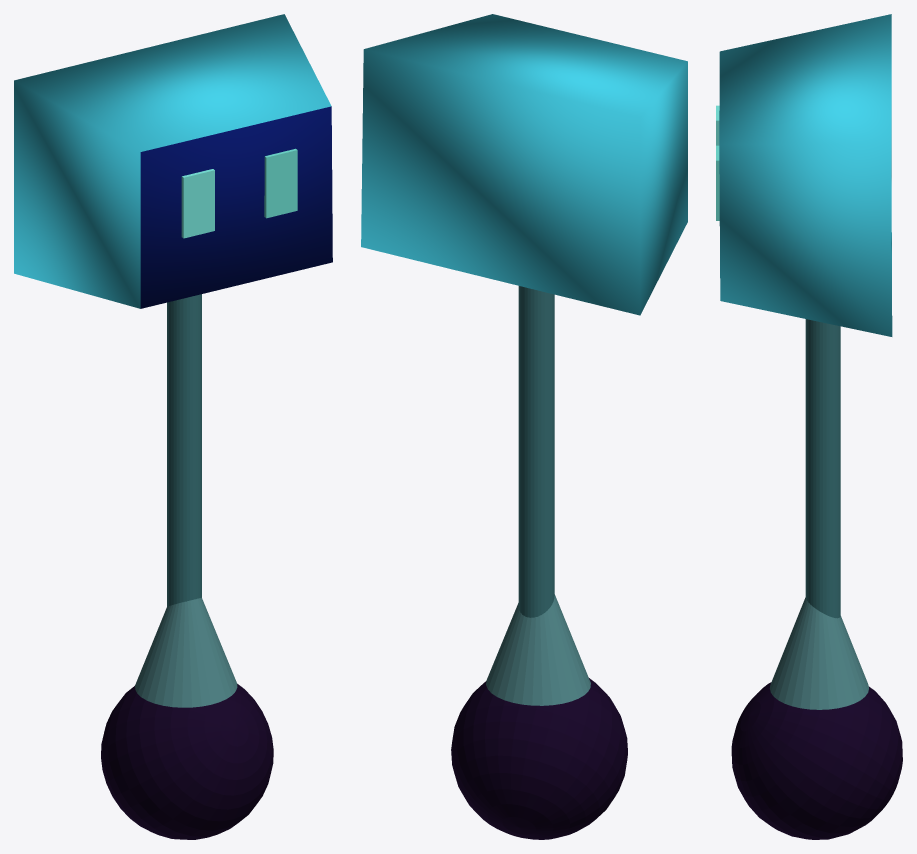
The model's file is EscoRobotSimple.fbx.
3 renders of one model, left to right at view 1: azimuth 30°, elevation 25°; view 2: azimuth 150°, elevation 25°; view 3: azimuth 270°, elevation 25°, orthographic. The views are drawn at different scales.
Parts seen in each view (by area): view 1: Cone, Sphere; view 2: Cone, Sphere; view 3: Cone, Sphere.
Boxes of the visible parts, left/top/right/bottom form: Cone: left=14, top=14, right=332, bottom=707; Sphere: left=101, top=684, right=273, bottom=839; Cone: left=361, top=14, right=687, bottom=705; Sphere: left=451, top=678, right=627, bottom=839; Cone: left=716, top=14, right=892, bottom=709; Sphere: left=731, top=682, right=902, bottom=839.
Size of the model in its own units: 363 by 967 by 217.
